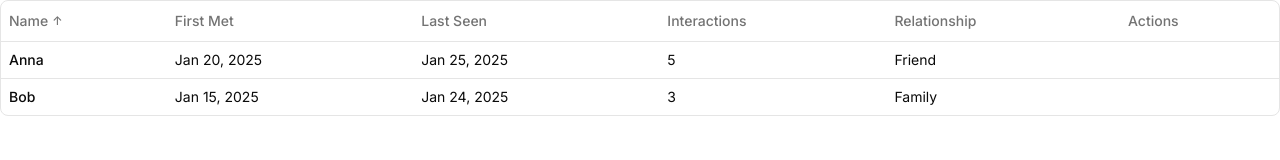
Memory Table › table interactions › should allow sorting by name
Click the text "Name" at [29, 21], box [9,11,48,31]
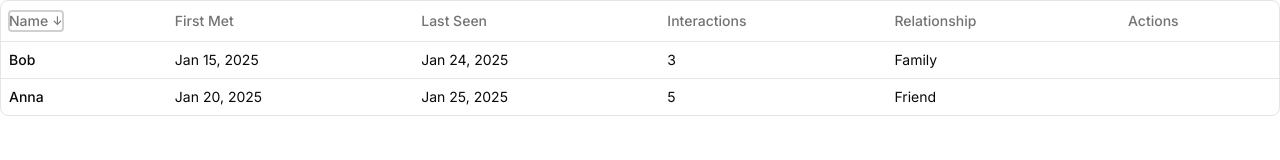
expect the button with aria-label "Sorted by name descending" is shown: met, box [9,11,62,31]
